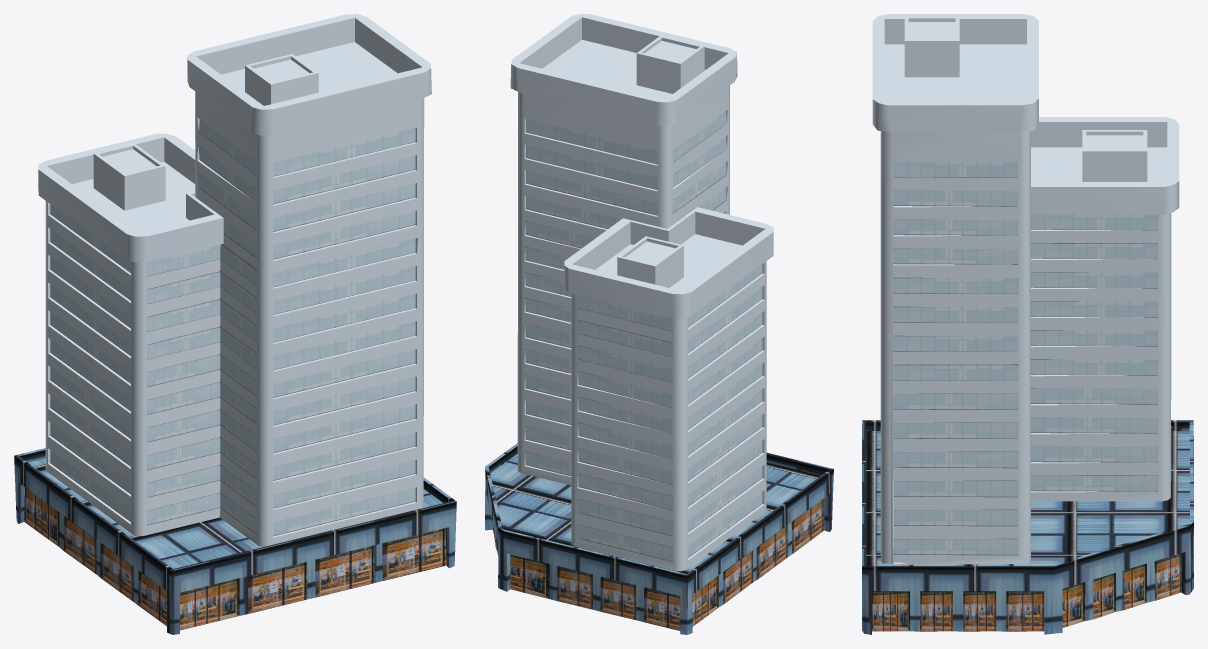
Rendered from Medium_Building_16.fbx.
3 renders of one model, left to right at view 1: azimuth 30°, elevation 25°; view 2: azimuth 150°, elevation 25°; view 3: azimuth 270°, elevation 25°, orthographic. The views are drawn at different scales.
Parts seen in each view (by area): view 1: Medium_Building_16; view 2: Medium_Building_16; view 3: Medium_Building_16.
Part boxes in pixels (x1,y1,x2,y2): Medium_Building_16: (14, 14, 456, 634); Medium_Building_16: (485, 14, 833, 634); Medium_Building_16: (862, 14, 1193, 634).
Size of the model in its own units: 3468 by 5876 by 3314.
